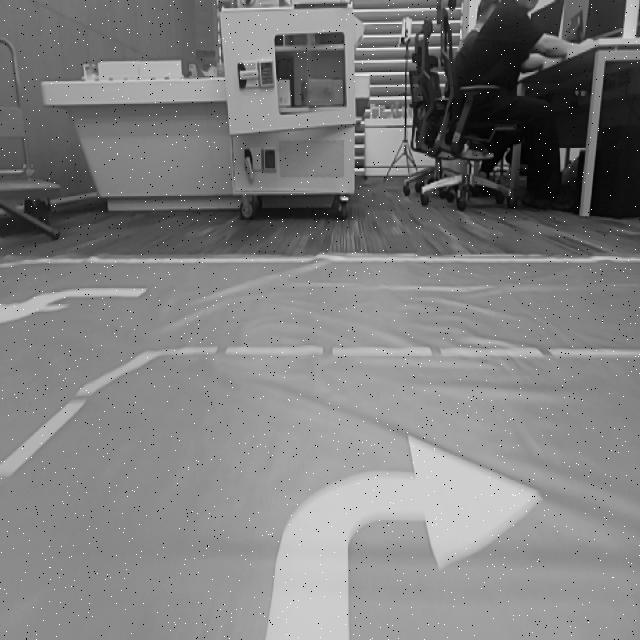left_lane: (0, 376, 117, 491)
